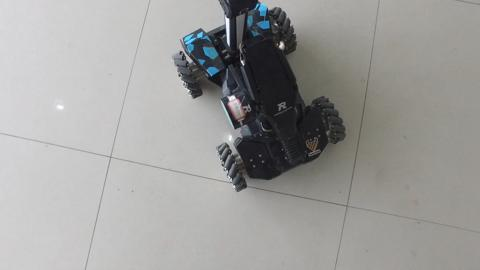chariot: (168, 10, 329, 177)
